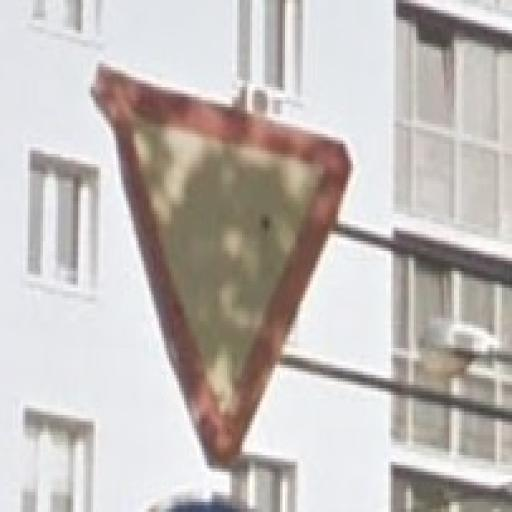traffic_sign: (92, 65, 352, 476)
